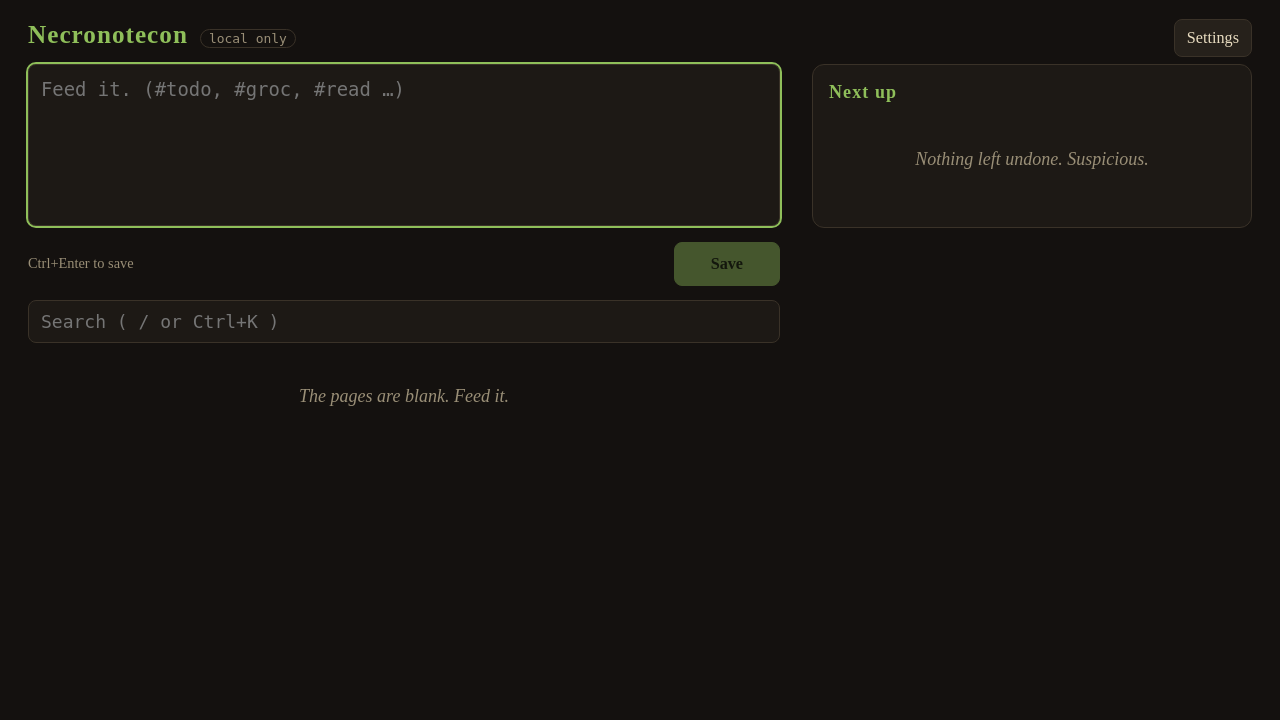
Test case: capture: cursor starts in the box, Ctrl+Enter saves, newest first, box clears
The width and height of the screenshot is (1280, 720).
Type "first note" into the text box named "New note" at (404, 145), box [28,64,780,226]
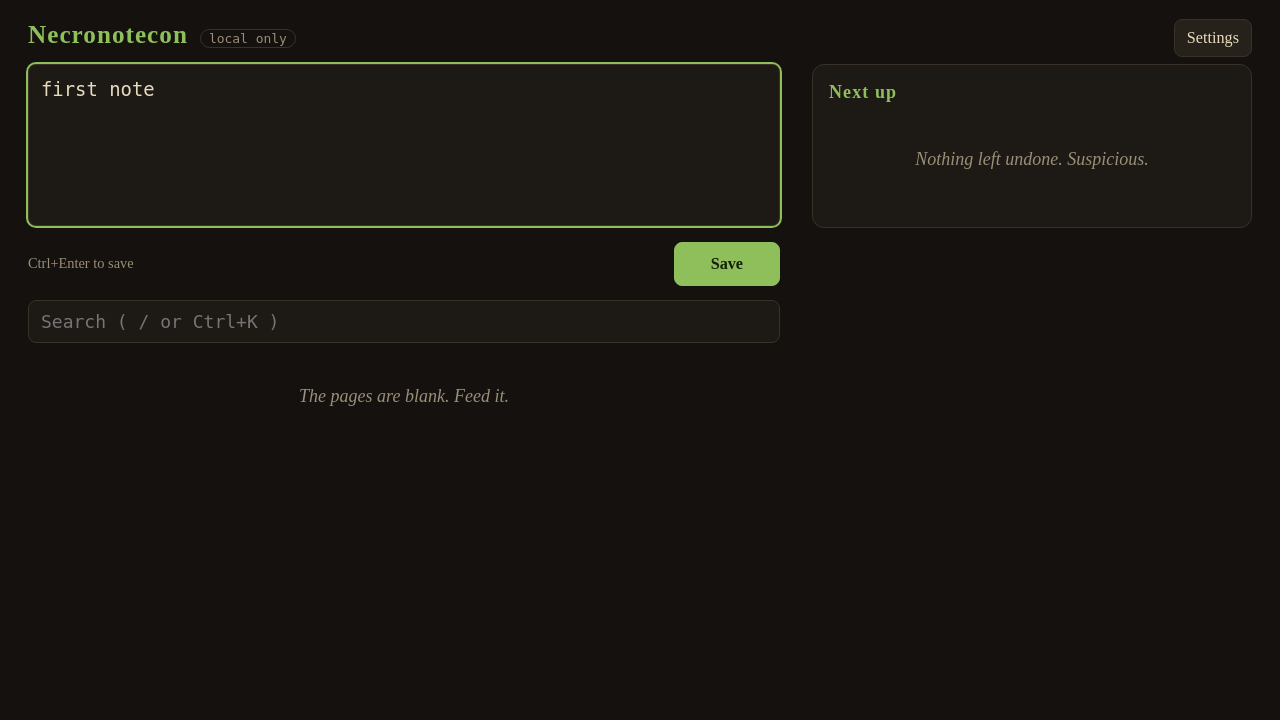
Type keys "{Control>}{Enter}{/Control}"
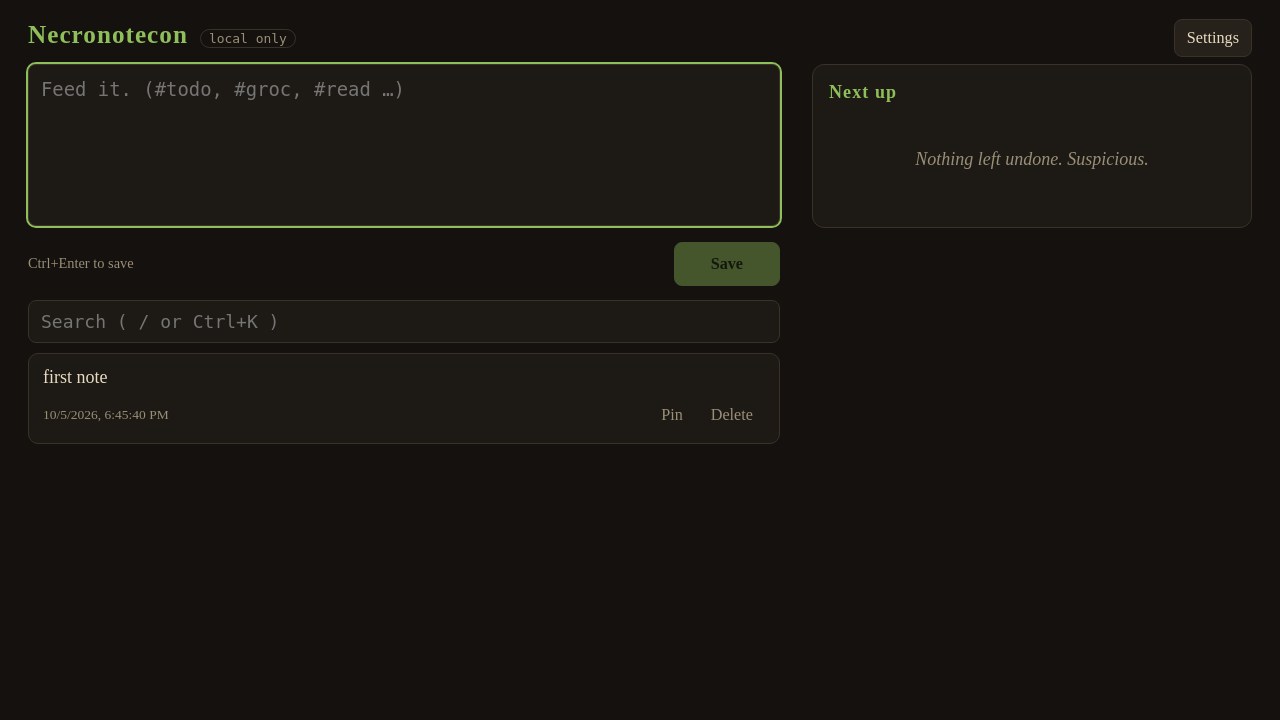
Type "second note" into the text box named "New note" at (404, 145), box [28,64,780,226]
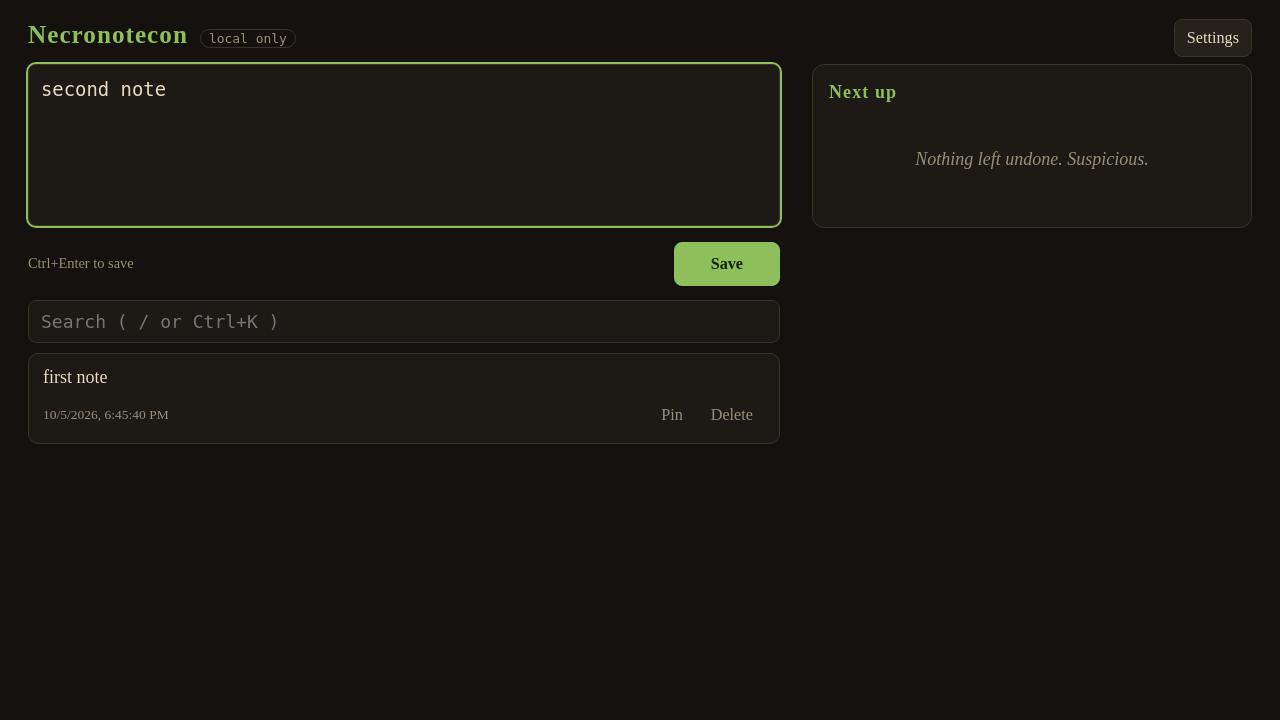
Click the button "Save" at (727, 264), box [674,242,780,286]
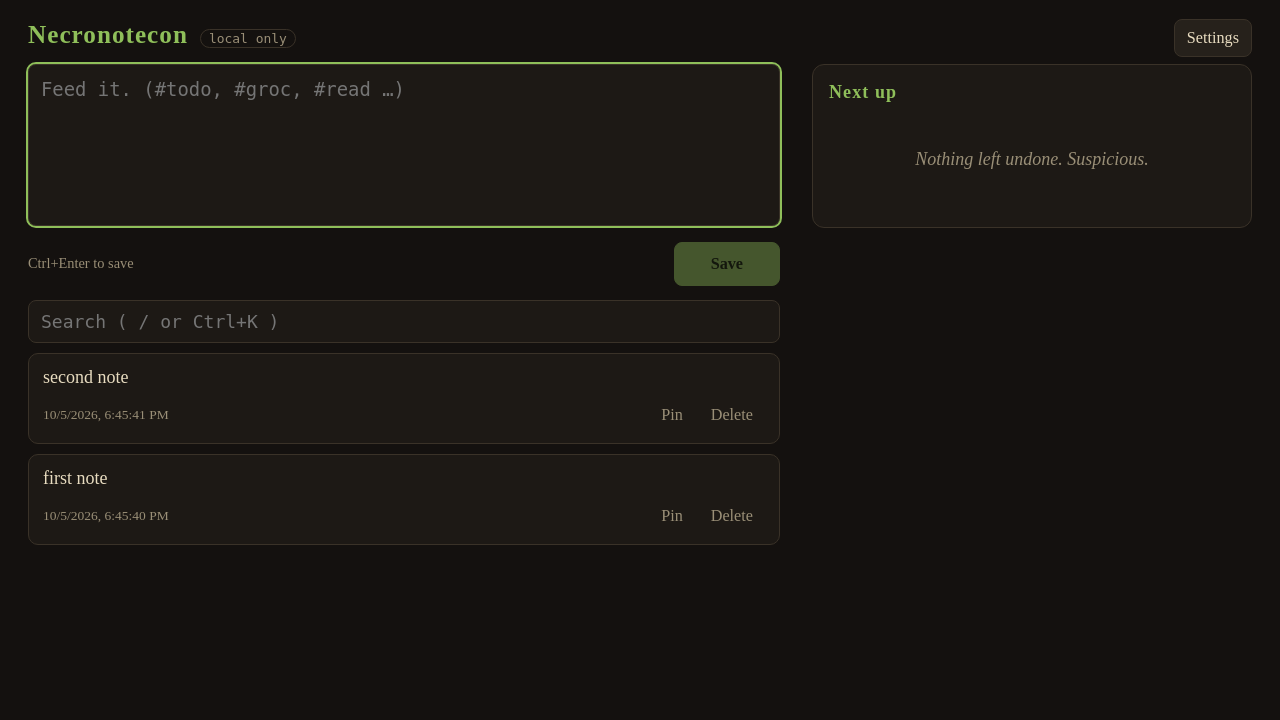
Check: the element showing "second note 10/5/2026, 6:45:41 PM Pin Delete" is shown, box [28,353,780,444]
Check: the text box named "New note" is empty, box [28,64,780,226]
